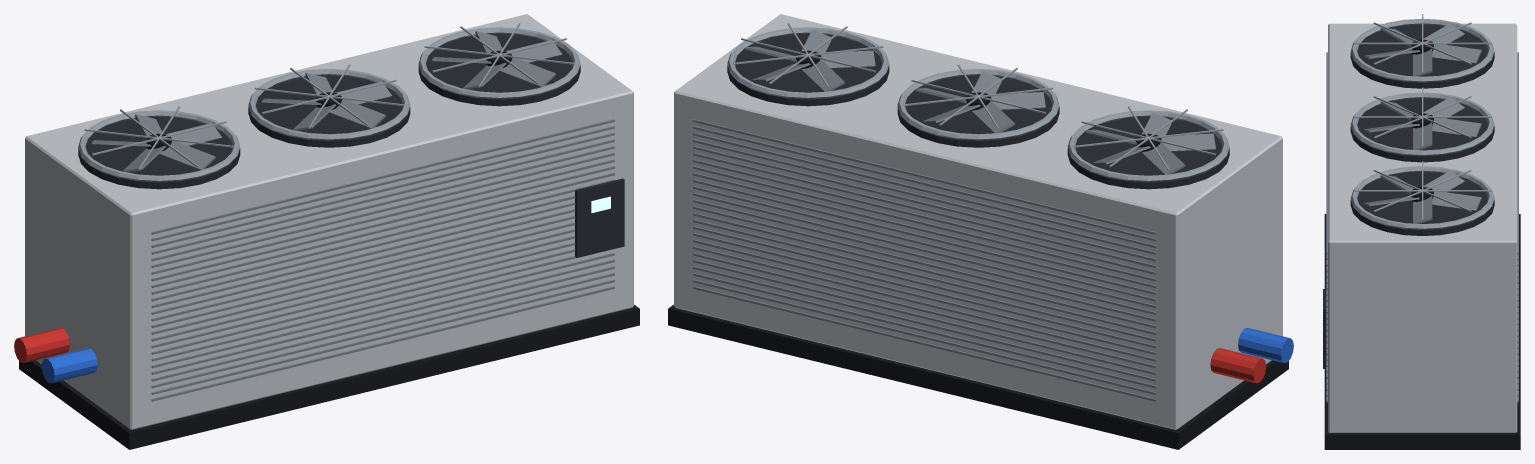
The model's file is 20_Chiller_Outdoor_3Fan.fbx.
3 renders of one model, left to right at view 1: azimuth 30°, elevation 25°; view 2: azimuth 150°, elevation 25°; view 3: azimuth 270°, elevation 25°, orthographic. The views are drawn at different scales.
Parts seen in each view (by area): view 1: 20_Chiller_Outdoor_3Fan; view 2: 20_Chiller_Outdoor_3Fan; view 3: 20_Chiller_Outdoor_3Fan.
Boxes of the visible parts, x1,y1,x2,y2 form: 20_Chiller_Outdoor_3Fan: [14, 14, 639, 449]; 20_Chiller_Outdoor_3Fan: [668, 14, 1293, 449]; 20_Chiller_Outdoor_3Fan: [1322, 14, 1520, 449].
Size of the model in its own units: 345 by 150 by 121.
